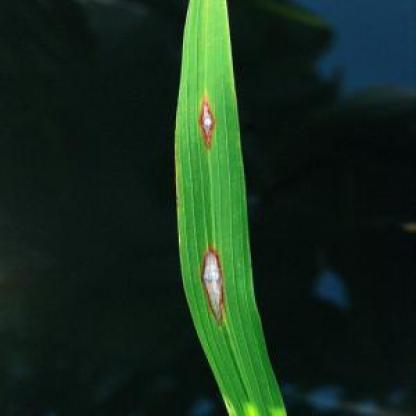Rice blast: (194, 237, 240, 335), (195, 94, 226, 159)
